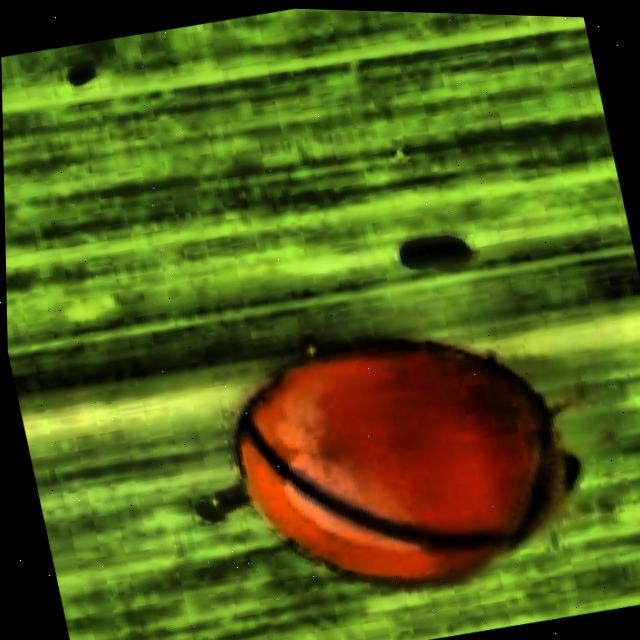Ladybug: (120, 216, 640, 640)
